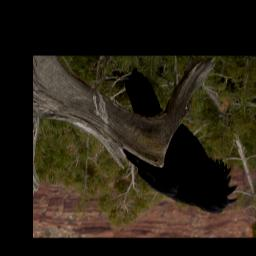Crow: (122, 67, 240, 214)
